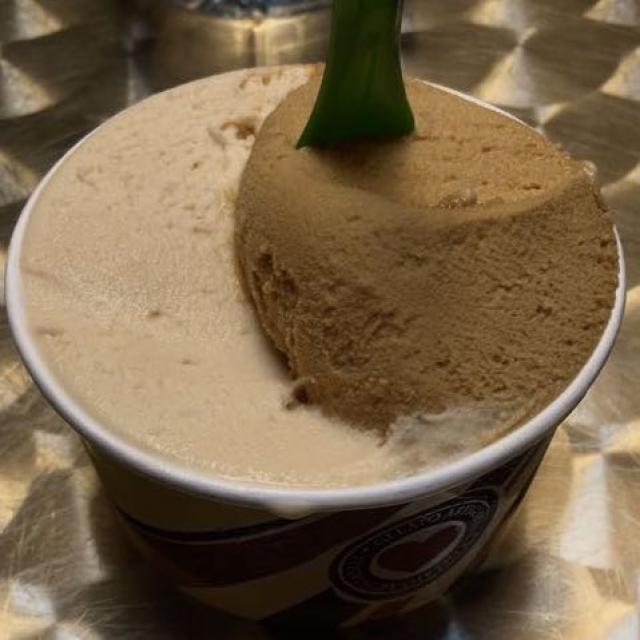dark-chocolate: (285, 5, 408, 179)
